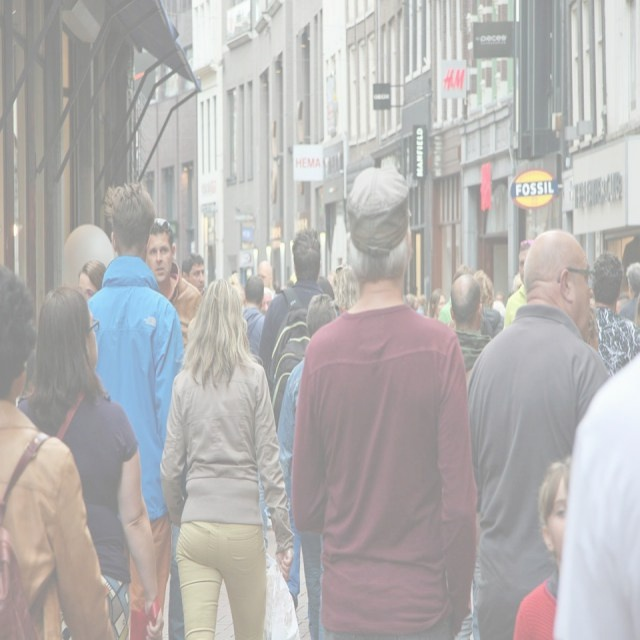pessoa: (290, 161, 485, 639), (466, 225, 613, 639), (13, 283, 166, 639), (155, 268, 295, 639), (0, 253, 128, 639), (86, 179, 186, 639), (551, 332, 640, 640), (144, 217, 204, 584), (278, 292, 340, 639), (258, 224, 342, 432), (510, 453, 574, 639), (586, 250, 638, 376), (448, 273, 494, 372), (502, 240, 532, 330), (438, 264, 477, 332), (238, 274, 266, 358), (472, 268, 505, 338), (16, 350, 42, 420), (403, 284, 448, 320), (616, 258, 640, 324), (76, 256, 108, 302), (492, 268, 524, 314), (332, 264, 360, 316), (179, 250, 208, 300), (581, 310, 604, 350), (318, 262, 343, 298), (256, 260, 278, 296), (227, 270, 244, 308), (272, 270, 297, 294), (258, 284, 274, 316), (586, 276, 596, 308), (615, 292, 631, 310), (634, 290, 640, 330)
